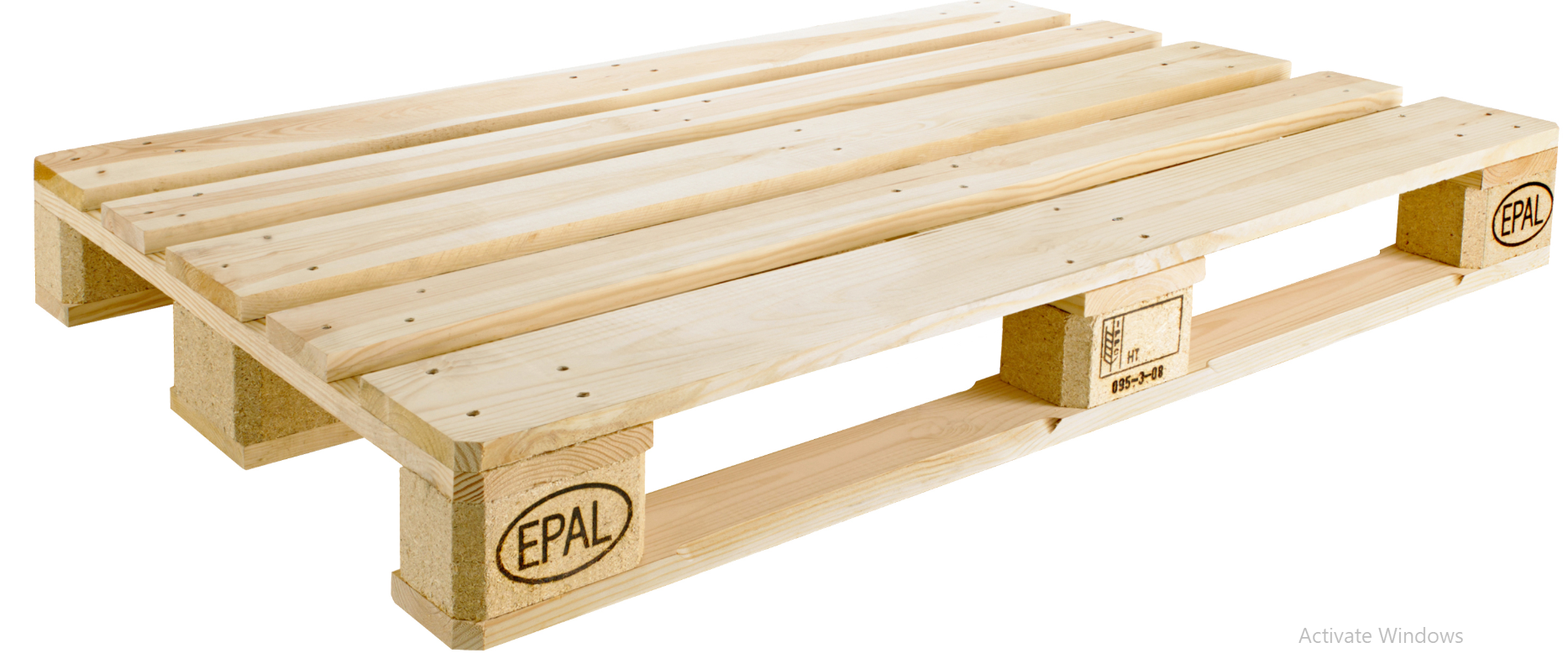block: (386, 412, 480, 645), (168, 259, 243, 467), (31, 153, 87, 325)
front: (18, 147, 489, 652)
hole pallet: (240, 353, 400, 595), (64, 219, 169, 404)
